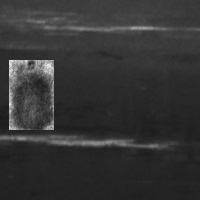patches: (9, 60, 54, 130)
scratches: (12, 11, 188, 37), (1, 130, 171, 153)
